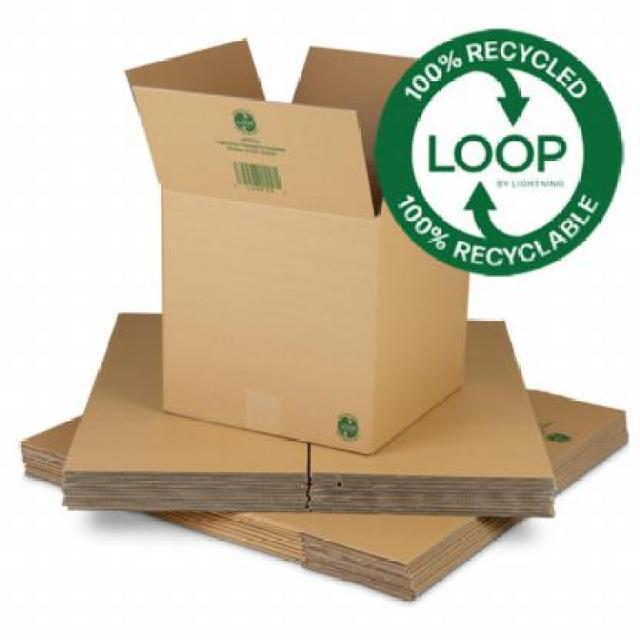box: (128, 59, 486, 458)
